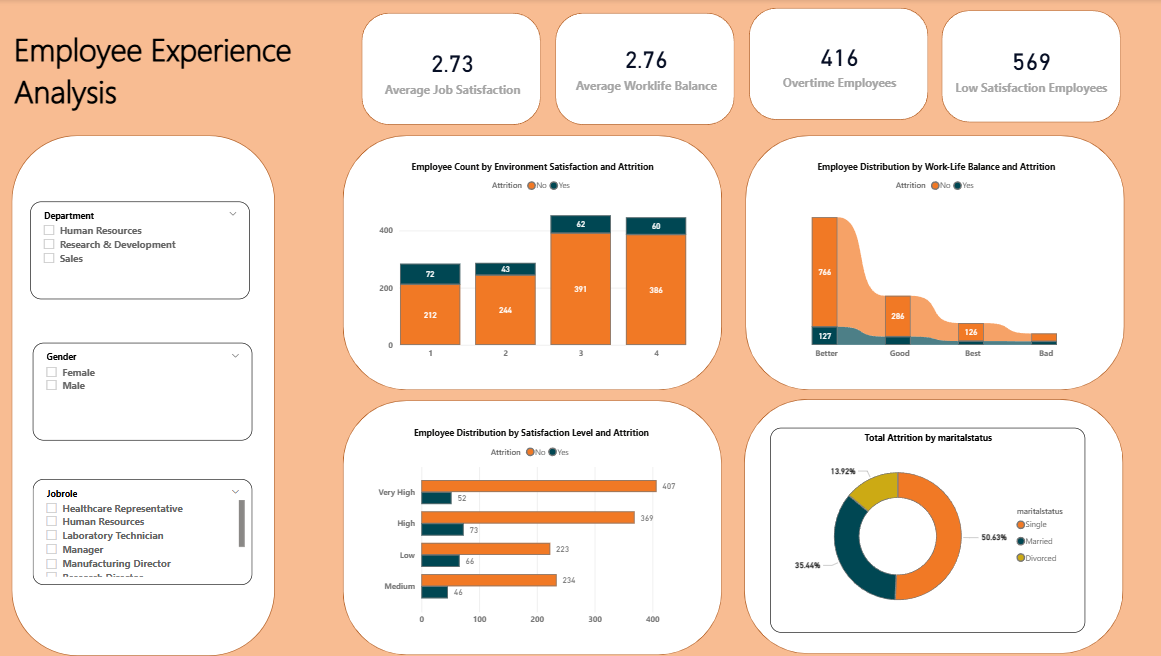

The page's visual inventory and layout, read from the dashboard file:
{"tool":"powerbi","page":{"name":"Satisfaction Analysis","canvas":[1600,900],"ordinal":1},"visuals":[{"type":"shape","box":[1287.7,15.3,245,153.3],"z":0},{"type":"shape","box":[1024.7,12.7,245,153.3],"z":1000},{"type":"shape","box":[760,18,245,153.3],"z":2000},{"type":"shape","box":[495.7,18,245,153.3],"z":3000},{"type":"shape","box":[16.3,185.3,360,711.7],"z":4000},{"type":"shape","box":[1018,546,518.3,348.3],"z":5000},{"type":"shape","box":[469.7,548.7,518,348.3],"z":6000},{"type":"shape","box":[1019.7,186,518.3,348.3],"z":7000},{"type":"shape","box":[469.7,185.3,518.3,348.3],"z":8000},{"type":"clusteredBarChart","title":"Employee Distribution by Satisfaction Level and Attrition","fields":{"Category":["public vw_employee_analysis.satisfaction_level"],"Y":["CountNonNull(public vw_employee_analysis.employeenumber)"],"Series":["public employee_attrition.attrition"]},"box":[513,583.7,430,280],"z":9000},{"type":"ribbonChart","title":"Employee Distribution by Work-Life Balance and Attrition","fields":{"Category":["public vw_employee_analysis.worklife_level"],"Series":["public vw_employee_analysis.attrition"],"Y":["CountNonNull(public vw_employee_analysis.employeenumber)"]},"box":[1065.3,220.3,430,280],"z":10000},{"type":"columnChart","title":"Employee Count by Environment Satisfaction and Attrition","fields":{"Category":["public employee_attrition.environmentsatisfaction"],"Y":["CountNonNull(public employee_attrition.employeenumber)"],"Series":["public employee_attrition.attrition"]},"box":[514.7,220.3,430,280],"z":11000},{"type":"donutChart","fields":{"Category":["public vw_employee_analysis.maritalstatus"],"Y":["Measure_Table.Total Attrition"]},"box":[1053,586.7,430,280],"z":12000},{"type":"card","fields":{"Values":["Measure_Table.Average Job Satisfaction"]},"box":[510.7,39.7,218.3,115],"z":13000},{"type":"card","fields":{"Values":["Measure_Table.Average Worklife Balance"]},"box":[775,35,218.3,115],"z":14000},{"type":"card","fields":{"Values":["Measure_Table.Low Satisfaction Employees"]},"box":[1301,35.3,218.3,116.7],"z":15000},{"type":"card","fields":{"Values":["Measure_Table.Overtime Employees"]},"box":[1044.7,31,206.7,115],"z":16000},{"type":"textbox","box":[15.6,34.4,467.3,139.1],"z":17000},{"type":"slicer","fields":{"Values":["public employee_attrition.department"]},"box":[43,277,300,133.3],"z":18000},{"type":"slicer","fields":{"Values":["public employee_attrition.gender"]},"box":[46.3,470.3,300,133.3],"z":19000},{"type":"slicer","fields":{"Values":["public employee_attrition.jobrole"]},"box":[46.3,655.3,300,145],"z":20000}]}

Visuals, with their boxes in screenshot pixels (x1, y1, x2, y2), scaled from the page's 1600x900 canvas onto the 1161x656 screenshot:
shape: Rect(934, 11, 1112, 123)
shape: Rect(744, 9, 921, 121)
shape: Rect(551, 13, 729, 125)
shape: Rect(360, 13, 537, 125)
shape: Rect(12, 135, 273, 654)
shape: Rect(739, 398, 1115, 652)
shape: Rect(341, 400, 717, 654)
shape: Rect(740, 136, 1116, 389)
shape: Rect(341, 135, 717, 389)
"Employee Distribution by Satisfaction Level and Attrition" clusteredBarChart: Rect(372, 425, 684, 630)
"Employee Distribution by Work-Life Balance and Attrition" ribbonChart: Rect(773, 161, 1085, 365)
"Employee Count by Environment Satisfaction and Attrition" columnChart: Rect(373, 161, 685, 365)
donutChart - public vw_employee_analysis.maritalstatus x Measure_Table.Total Attrition: Rect(764, 428, 1076, 632)
card - Measure_Table.Average Job Satisfaction: Rect(371, 29, 529, 113)
card - Measure_Table.Average Worklife Balance: Rect(562, 26, 721, 109)
card - Measure_Table.Low Satisfaction Employees: Rect(944, 26, 1102, 111)
card - Measure_Table.Overtime Employees: Rect(758, 23, 908, 106)
textbox: Rect(11, 25, 350, 126)
slicer - public employee_attrition.department: Rect(31, 202, 249, 299)
slicer - public employee_attrition.gender: Rect(34, 343, 251, 440)
slicer - public employee_attrition.jobrole: Rect(34, 478, 251, 583)
